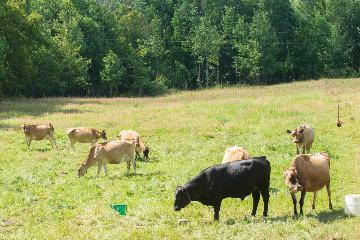cow: (171, 158, 271, 220), (281, 151, 340, 213), (76, 142, 137, 177), (21, 121, 58, 149), (285, 121, 319, 150), (64, 126, 110, 142)
